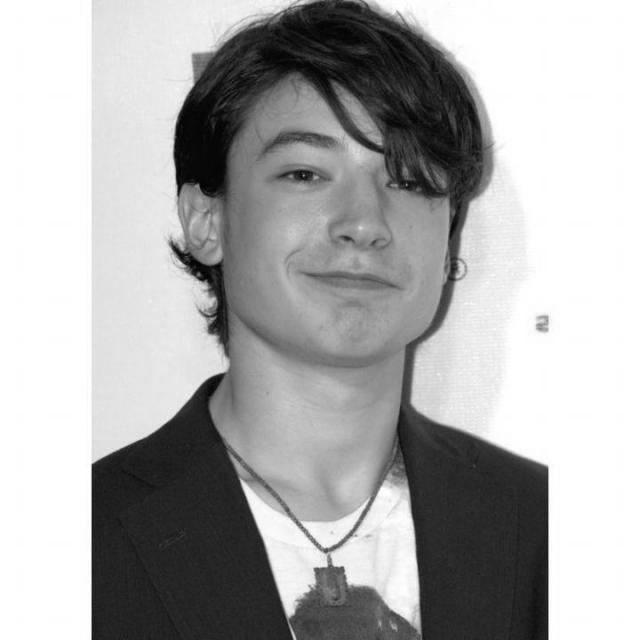real: (172, 81, 468, 374)
